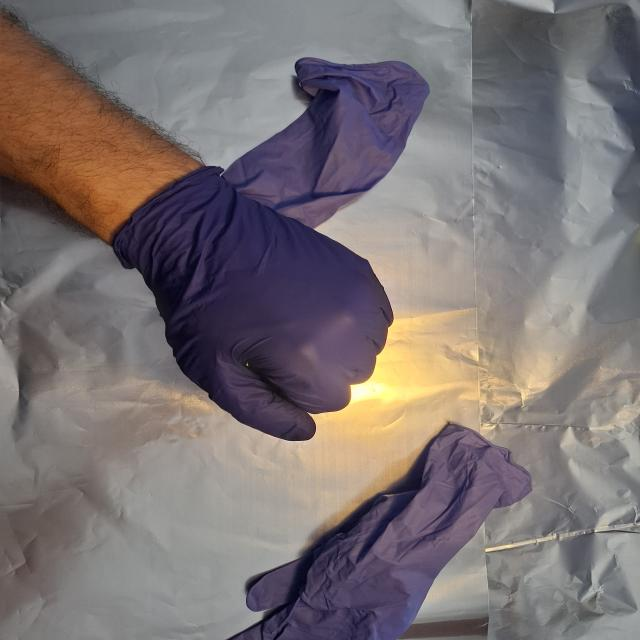glove_on: (106, 162, 398, 443)
